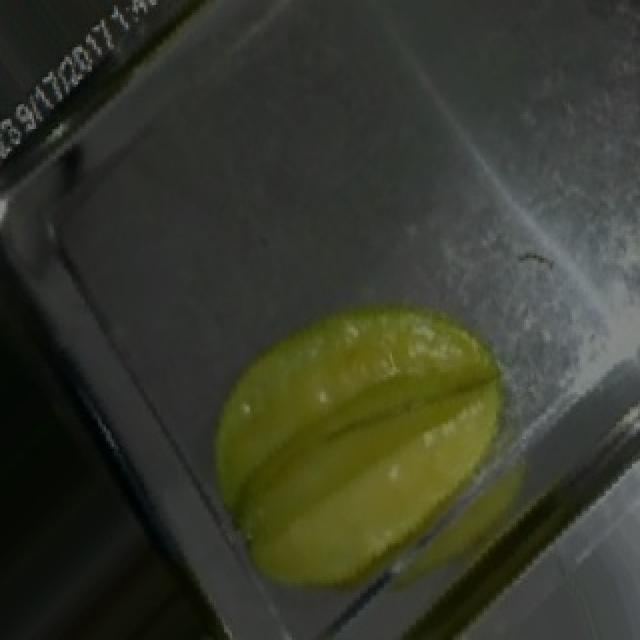fruit: (140, 166, 590, 640)
